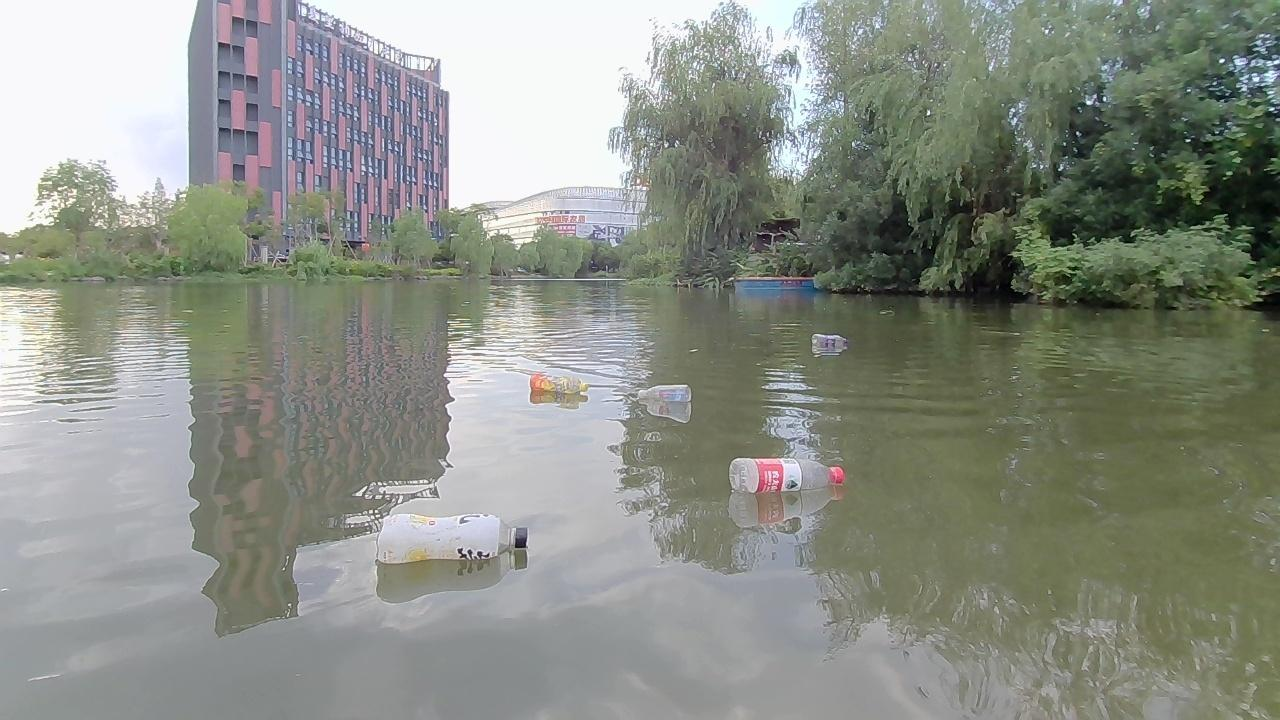bottle: (369, 511, 534, 564), (721, 452, 852, 499), (526, 371, 586, 399), (631, 381, 695, 406), (812, 331, 846, 349)
